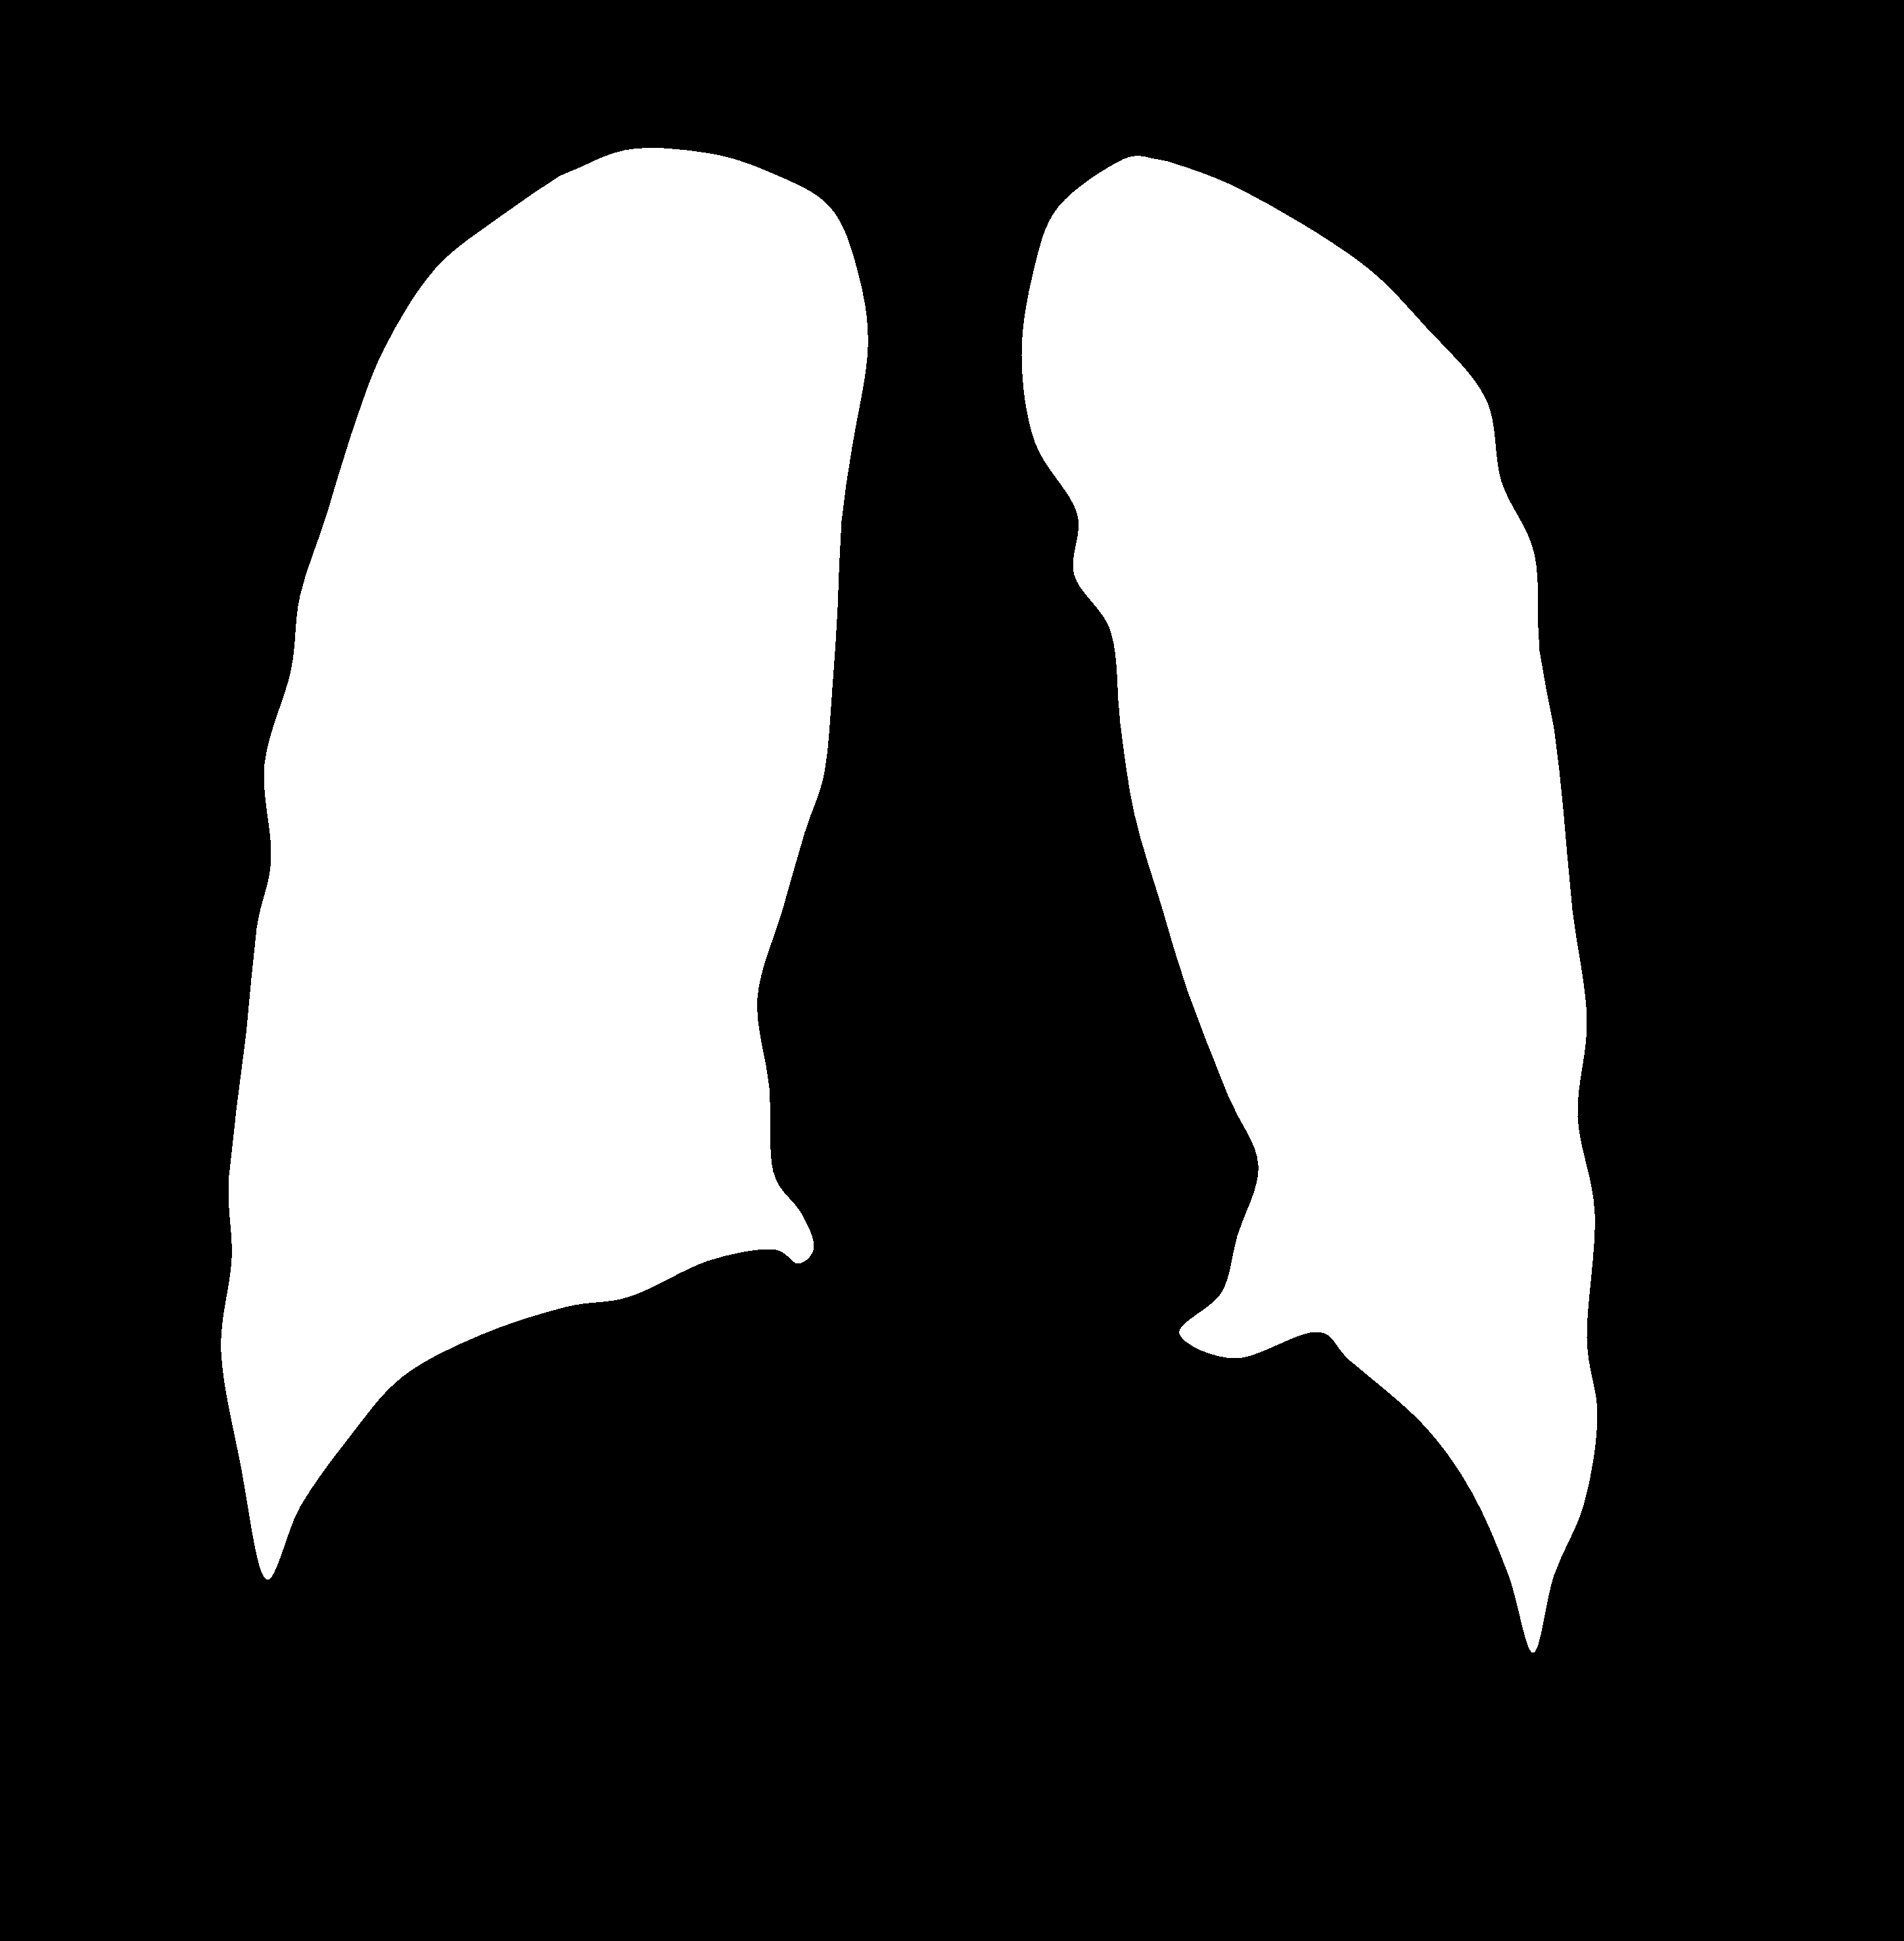heart: (753, 790, 1247, 1338)
left_lung: (221, 148, 868, 1578)
right_lung: (1022, 155, 1597, 1653)
